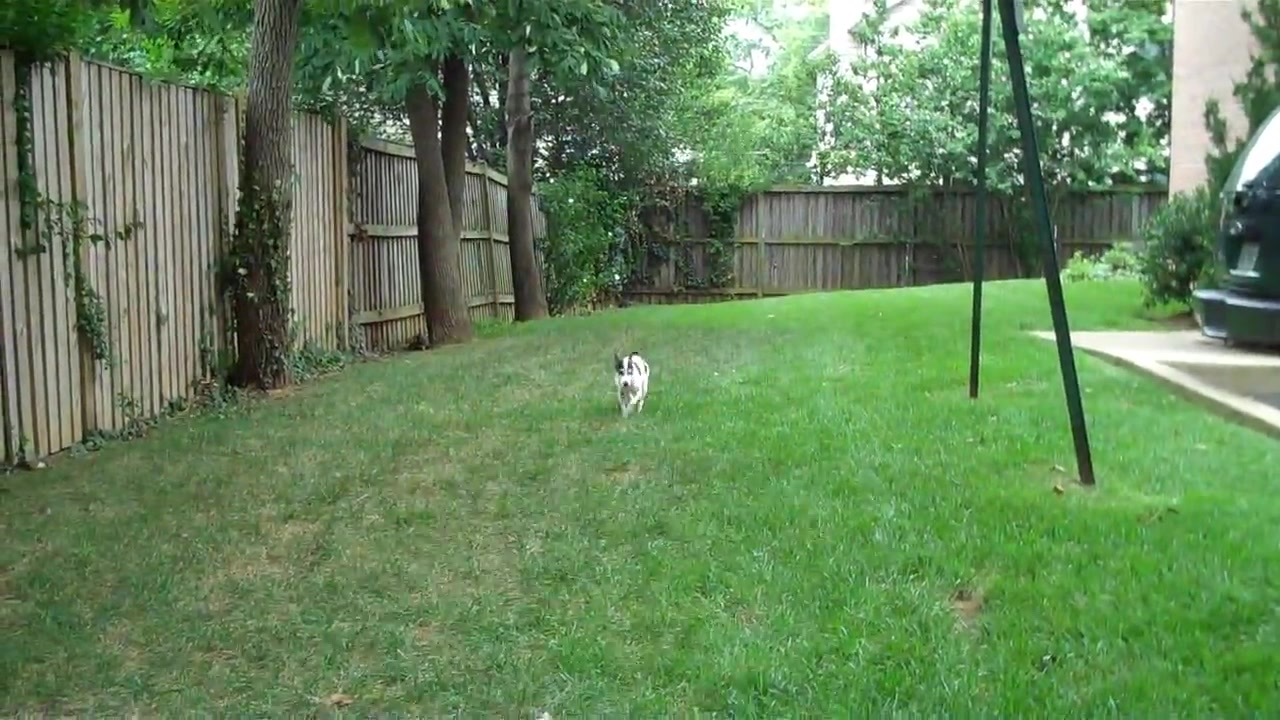dog: (608, 349, 660, 419)
